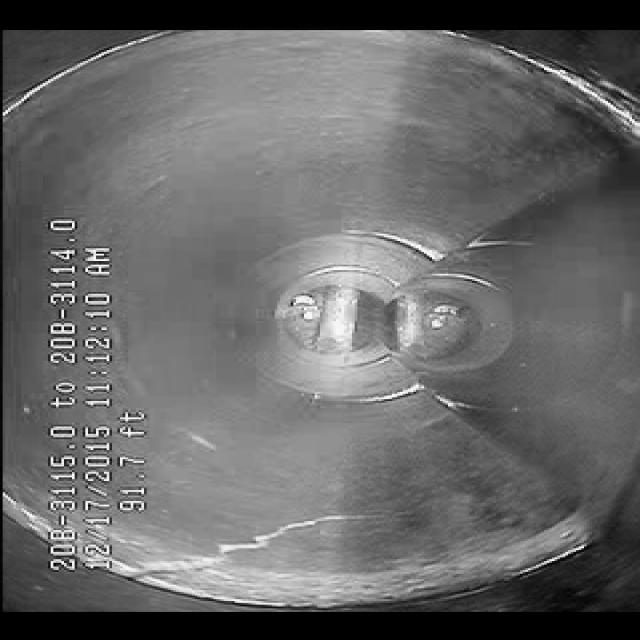Crack: (148, 496, 372, 576)
